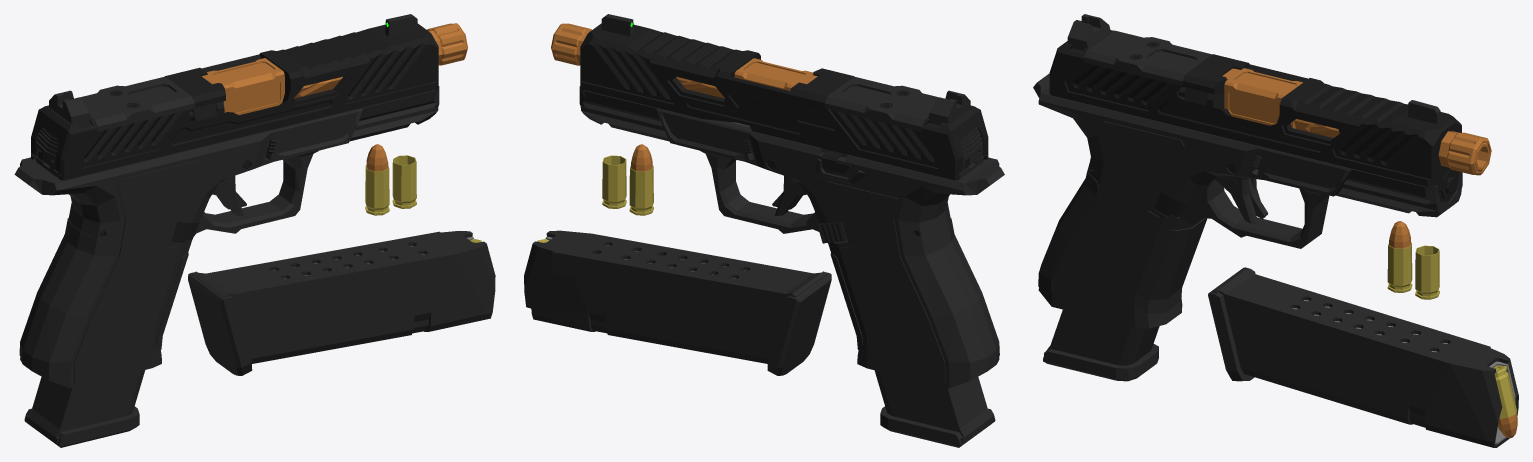
The model's file is shadow_systems_mr920.glb.
3 views of the same model, side by side, from view 1: azimuth 30°, elevation 25°; view 2: azimuth 150°, elevation 25°; view 3: azimuth 330°, elevation 25° (orthographic).
Parts seen in each view (by area): view 1: mr920 frame_6, g17 17rnd mag_3, mr920 slide_9, g17 17rnd empty mag_2, mr920 cover_10, mr920 barrel threaded_5, 919 case_1, Object_4, mr920 muzzle nut_4, mr920 trigga_8, Object_5; view 2: mr920 frame_6, g17 17rnd mag_3, mr920 slide_9, g17 17rnd empty mag_2, mr920 cover_10, mr920 barrel threaded_5, 919 case_1, Object_4, mr920 muzzle nut_4, mr920 trigga_8, Object_5; view 3: mr920 frame_6, g17 17rnd mag_3, mr920 slide_9, g17 17rnd empty mag_2, mr920 barrel threaded_5, mr920 cover_10, mr920 trigga_8, 919 case_1, mr920 muzzle nut_4, Object_4, Object_5.
Boxes of the visible parts, <box> form: mr920 frame_6: <box>14,86,439,388</box>; g17 17rnd mag_3: <box>188,231,495,375</box>; mr920 slide_9: <box>31,14,438,180</box>; g17 17rnd empty mag_2: <box>24,370,145,447</box>; mr920 cover_10: <box>80,76,194,131</box>; mr920 barrel threaded_5: <box>202,30,442,114</box>; 919 case_1: <box>392,155,416,208</box>; Object_4: <box>365,165,389,215</box>; mr920 muzzle nut_4: <box>427,23,467,65</box>; mr920 trigga_8: <box>212,176,246,215</box>; Object_5: <box>366,144,388,171</box>; mr920 frame_6: <box>579,86,1004,388</box>; g17 17rnd mag_3: <box>524,230,831,375</box>; mr920 slide_9: <box>580,14,988,180</box>; g17 17rnd empty mag_2: <box>823,148,995,447</box>; mr920 cover_10: <box>824,76,938,131</box>; mr920 barrel threaded_5: <box>576,30,817,98</box>; 919 case_1: <box>602,155,626,208</box>; Object_4: <box>629,165,653,215</box>; mr920 muzzle nut_4: <box>551,23,591,65</box>; mr920 trigga_8: <box>772,176,806,215</box>; Object_5: <box>630,144,652,171</box>; mr920 frame_6: <box>1033,73,1462,328</box>; g17 17rnd mag_3: <box>1208,267,1518,447</box>; mr920 slide_9: <box>1049,14,1461,202</box>; g17 17rnd empty mag_2: <box>1043,309,1159,381</box>; mr920 barrel threaded_5: <box>1222,68,1489,171</box>; mr920 cover_10: <box>1084,30,1211,86</box>; mr920 trigga_8: <box>1215,176,1268,224</box>; 919 case_1: <box>1415,245,1439,299</box>; mr920 muzzle nut_4: <box>1447,132,1491,175</box>; Object_4: <box>1387,242,1412,292</box>; Object_5: <box>1389,221,1410,248</box>.
Bounding box in the file's own units: 2.14 × 1.45 × 0.312.
